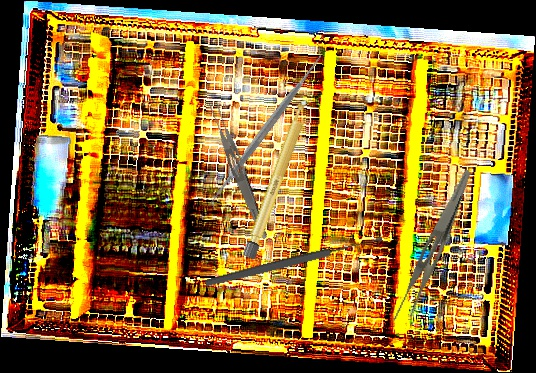Dressing Forceps: (390, 163, 473, 329), (205, 100, 274, 241)
Scalpel Handle: (242, 98, 313, 260)
Spatula Surgical: (199, 43, 334, 212)
Surgical Spoon: (204, 234, 384, 289)
